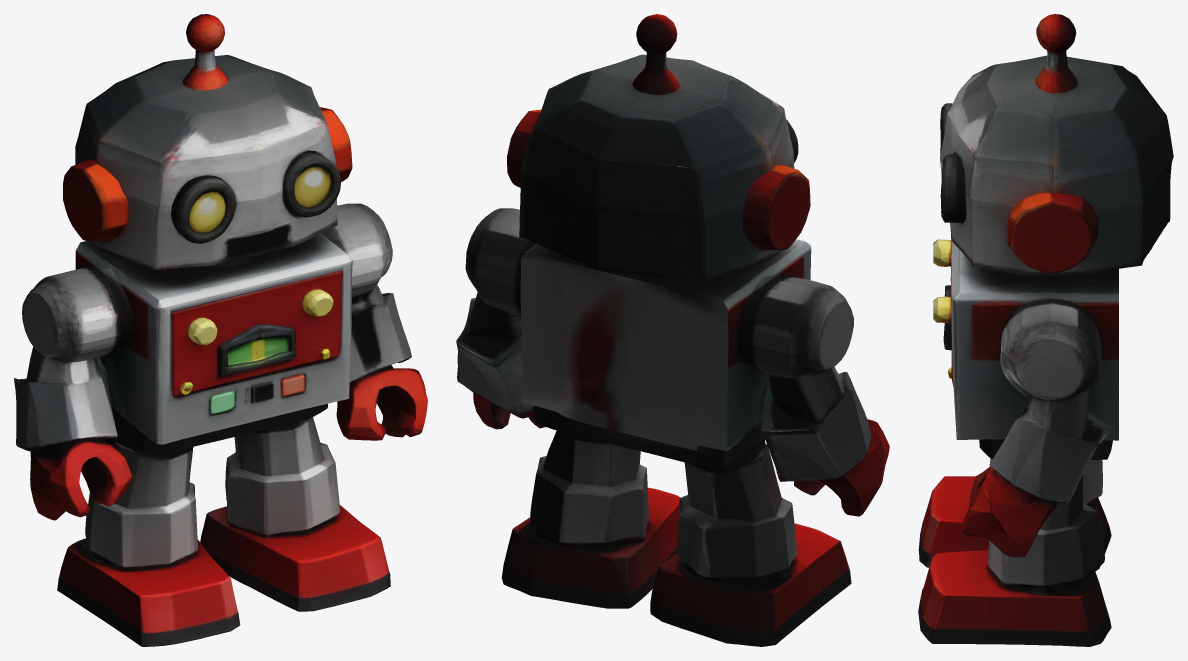
The model's file is robot_edited.glb.
The picture shows the model from 3 angles, left to right: view 1: azimuth 30°, elevation 25°; view 2: azimuth 150°, elevation 25°; view 3: azimuth 270°, elevation 25°; orthographic projection. The views are drawn at different scales.
Visible parts, largest first — view 1: geometry_0; view 2: geometry_0; view 3: geometry_0.
Part boxes in pixels (x1=…): geometry_0: x1=14, y1=14, x2=427, y2=646; geometry_0: x1=456, y1=14, x2=889, y2=646; geometry_0: x1=918, y1=14, x2=1173, y2=646.
Size of the model in its own units: 0.7212 by 1 by 0.4095.
1 material, 1 textured.
